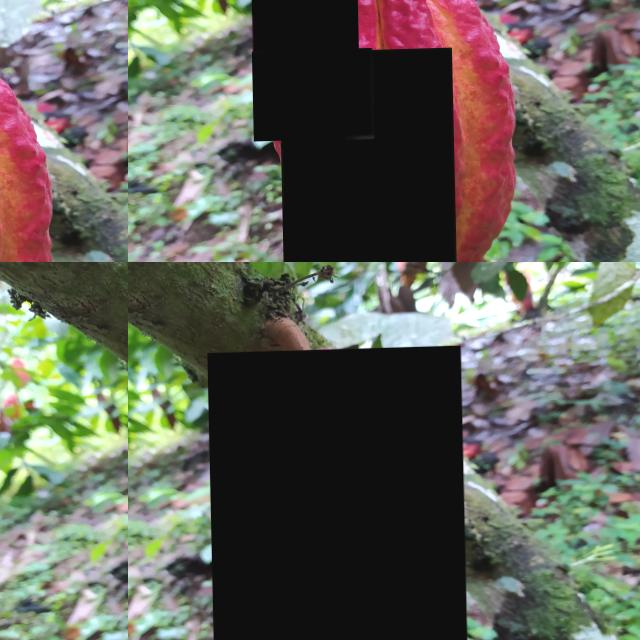Monilia: (277, 50, 454, 262), (250, 0, 357, 71)
Sana: (206, 348, 466, 640), (251, 50, 372, 143)
